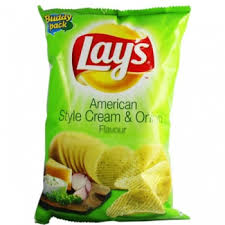lays-med: (37, 4, 181, 224)
